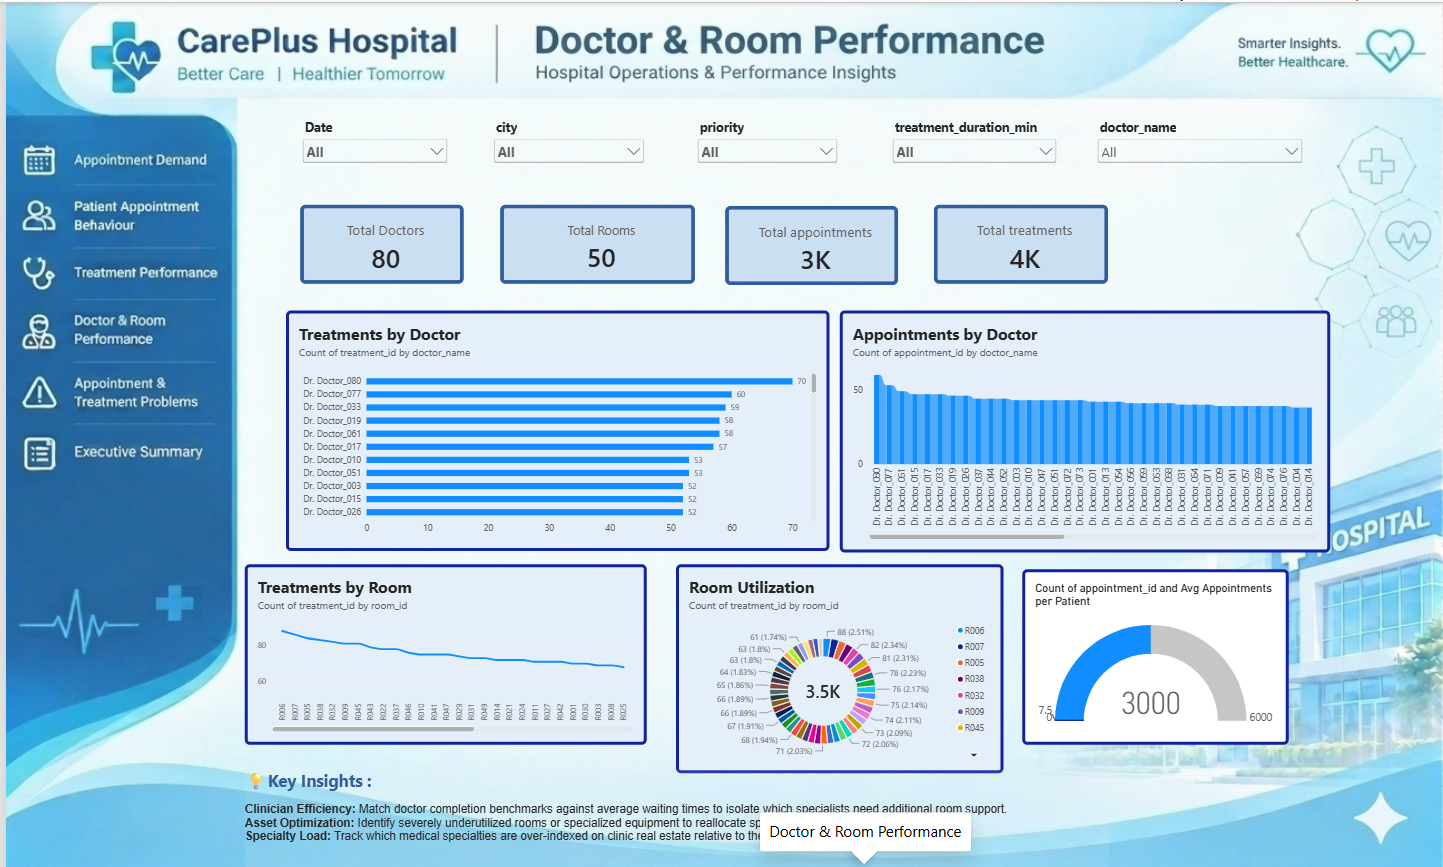

The page's visual inventory and layout, read from the dashboard file:
{"tool":"powerbi","page":{"name":"Doctor & Room Performance","canvas":[2300,1400],"ordinal":3},"visuals":[{"type":"cardVisual","fields":{"Data":["_KPI Measures.Total Doctors"]},"box":[469.6,321.7,263,128.3],"z":0},{"type":"cardVisual","fields":{"Data":["_KPI Measures.Total Rooms"]},"box":[789.1,321.7,313,128.3],"z":1},{"type":"cardVisual","fields":{"Data":["_KPI Measures.Total appointments"]},"box":[1150,323.9,278.3,128.3],"z":2},{"type":"cardVisual","fields":{"Data":["_KPI Measures.Total treatments"]},"box":[1484.8,321.7,280.4,128.3],"z":3},{"type":"clusteredBarChart","title":"Treatments by Doctor","fields":{"Category":["doctors.doctor_name"],"Y":["CountNonNull(treatments.treatment_id)"]},"box":[447.8,491.3,869.6,384.8],"z":4},{"type":"ribbonChart","title":"Appointments by Doctor","fields":{"Category":["doctors.doctor_name"],"Y":["CountNonNull(appointments.appointment_id)"]},"box":[1334.8,491.3,784.8,387],"z":5},{"type":"lineChart","title":"Treatments by Room","fields":{"Category":["rooms.room_id"],"Y":["CountNonNull(treatments.treatment_id)"]},"box":[382.6,897.8,643.5,289.1],"z":6},{"type":"donutChart","title":"Room Utilization","fields":{"Category":["rooms.room_id"],"Y":["CountNonNull(treatments.treatment_id)"]},"box":[1071.7,897.8,523.9,334.8],"z":7},{"type":"slicer","fields":{"Values":["date_table.Date"]},"box":[469.6,184.8,241.3,115.2],"z":8},{"type":"slicer","fields":{"Values":["patients.city"]},"box":[776.1,184.8,250,115.2],"z":9},{"type":"slicer","fields":{"Values":["treatments.treatment_duration_min"]},"box":[1413,184.8,271.7,115.2],"z":10},{"type":"slicer","fields":{"Values":["appointments.priority"]},"box":[1102.2,184.8,232.6,115.2],"z":11},{"type":"slicer","title":"Doctor Performance Over Time","fields":{"Values":["doctors.doctor_name"]},"box":[1741.3,184.8,337,115.2],"z":13},{"type":"gauge","fields":{"TargetValue":["_KPI Measures.Avg Appointments per Patient"],"Y":["CountNonNull(appointments.appointment_id)"]},"box":[1626.1,906.5,426.1,280.4],"z":14},{"type":"textbox","box":[382,1226,1382,158],"z":15}]}

Visuals, with their boxes on the page's 2300x1400 design canvas (x1, y1, x2, y2). These are canvas units, not pixel positions in the 1443x867 screenshot, which may show the page scaled, cropped or inside an application window:
cardVisual - _KPI Measures.Total Doctors: bbox=(470, 322, 733, 450)
cardVisual - _KPI Measures.Total Rooms: bbox=(789, 322, 1102, 450)
cardVisual - _KPI Measures.Total appointments: bbox=(1150, 324, 1428, 452)
cardVisual - _KPI Measures.Total treatments: bbox=(1485, 322, 1765, 450)
"Treatments by Doctor" clusteredBarChart: bbox=(448, 491, 1317, 876)
"Appointments by Doctor" ribbonChart: bbox=(1335, 491, 2120, 878)
"Treatments by Room" lineChart: bbox=(383, 898, 1026, 1187)
"Room Utilization" donutChart: bbox=(1072, 898, 1596, 1233)
slicer - date_table.Date: bbox=(470, 185, 711, 300)
slicer - patients.city: bbox=(776, 185, 1026, 300)
slicer - treatments.treatment_duration_min: bbox=(1413, 185, 1685, 300)
slicer - appointments.priority: bbox=(1102, 185, 1335, 300)
"Doctor Performance Over Time" slicer: bbox=(1741, 185, 2078, 300)
gauge - _KPI Measures.Avg Appointments per Patient x CountNonNull(appointments.appointment_id): bbox=(1626, 906, 2052, 1187)
textbox: bbox=(382, 1226, 1764, 1384)
